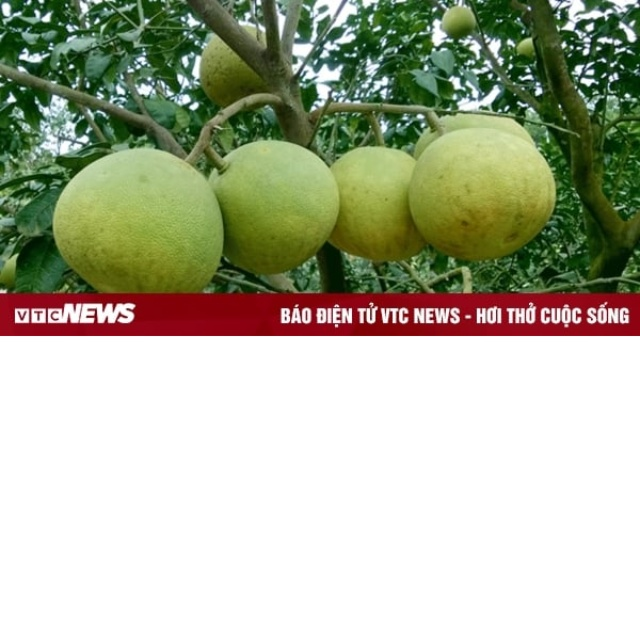buoi: (49, 145, 221, 294), (408, 129, 558, 264), (204, 137, 343, 276)
